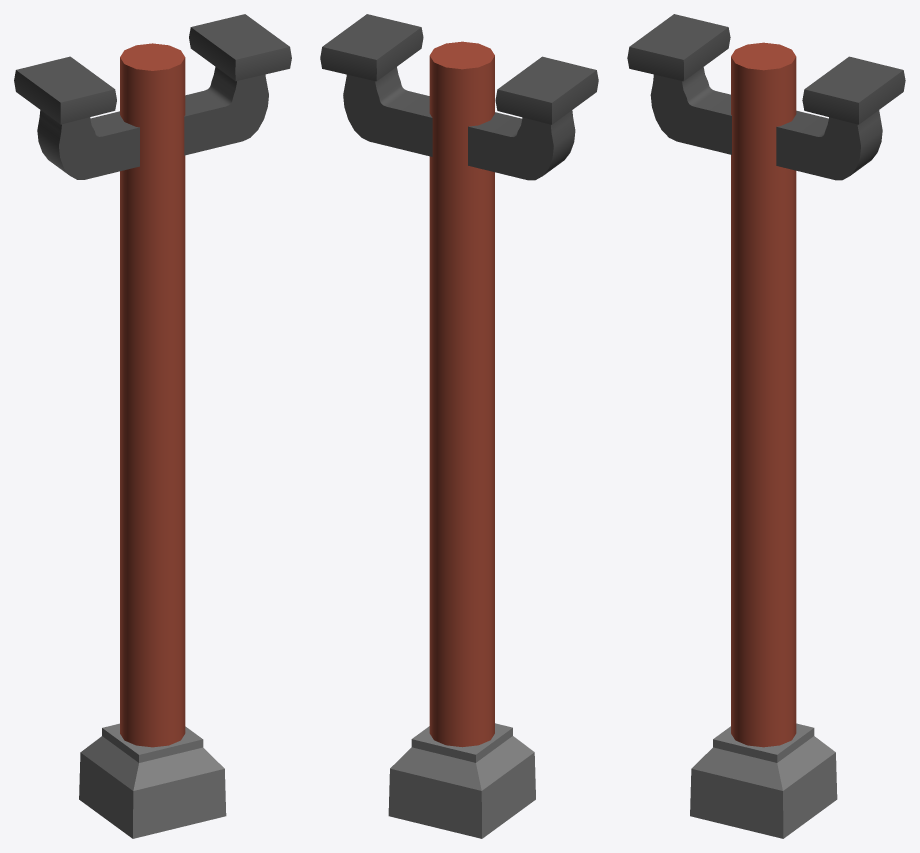
File: SM_pillar_architecture_02.fbx
The picture shows the model from 3 angles, left to right: view 1: azimuth 30°, elevation 25°; view 2: azimuth 150°, elevation 25°; view 3: azimuth 330°, elevation 25°; orthographic projection.
Parts seen in each view (by area): view 1: Object137; view 2: Object137; view 3: Object137.
Boxes of the visible parts, <box> form: Object137: <box>14,14,291,838</box>; Object137: <box>320,14,598,838</box>; Object137: <box>627,14,905,838</box>.
Size of the model in its own units: 58.03 by 180 by 23.4.
